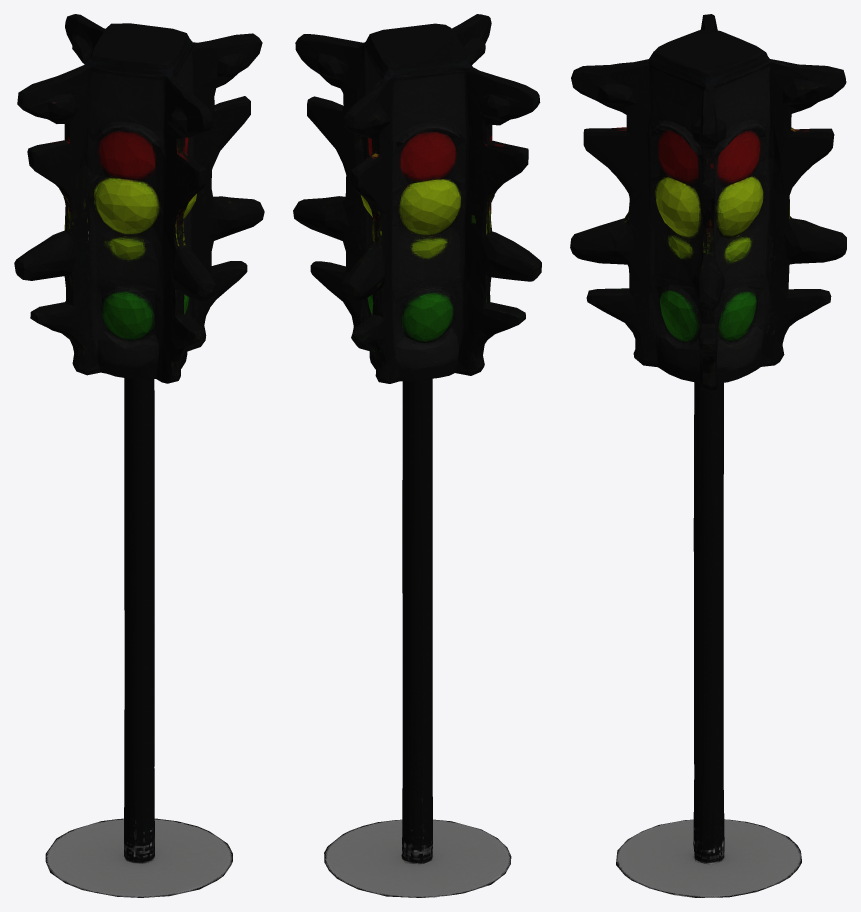
File: trafic_light.glb
3 renders of one model, left to right at view 1: azimuth 30°, elevation 25°; view 2: azimuth 150°, elevation 25°; view 3: azimuth 270°, elevation 25°, orthographic.
Visible parts, largest first — view 1: world; view 2: world; view 3: world.
Boxes of the visible parts, x1=… form: world: x1=14, y1=14, x2=264, y2=897; world: x1=293, y1=14, x2=541, y2=897; world: x1=570, y1=14, x2=846, y2=897.
Bounding box in the file's own units: 0.3116 × 0.9986 × 0.3097.
Materials: 1 (1 with a texture image).
